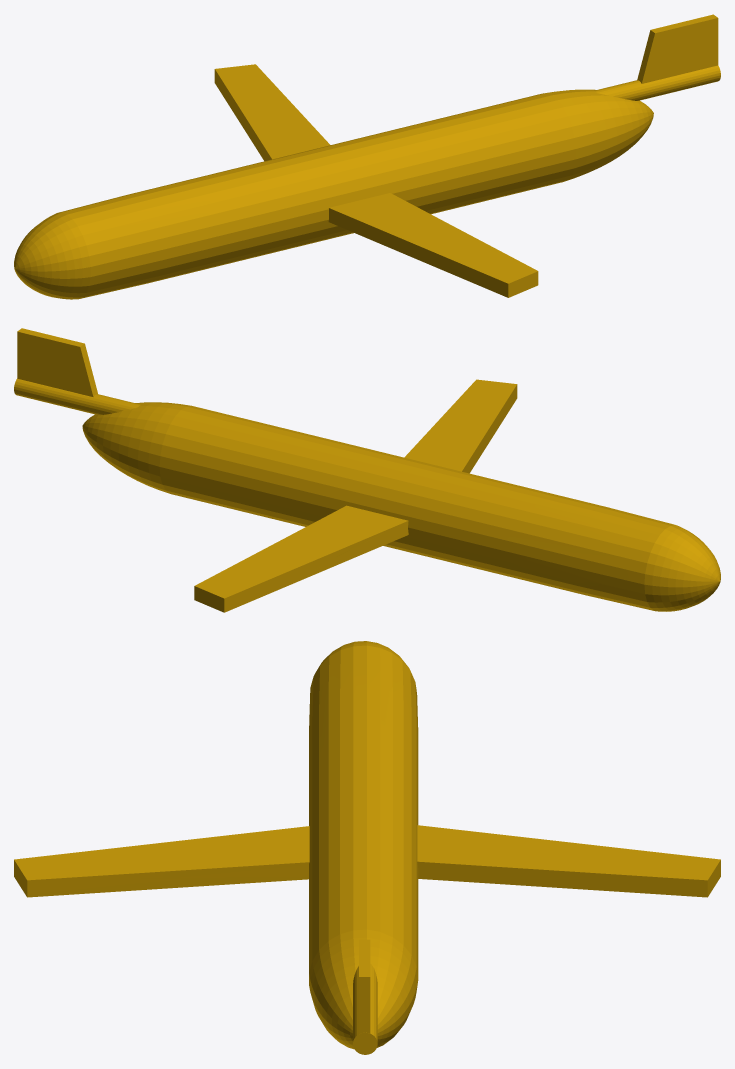
The model's file is slocum-glider-v1.glb.
3 views of the same model, one above another, from view 1: azimuth 30°, elevation 25°; view 2: azimuth 150°, elevation 25°; view 3: azimuth 270°, elevation 25° (orthographic). The views are drawn at different scales.
Visible parts, largest first — view 1: G3 Slocum Glider; view 2: G3 Slocum Glider; view 3: G3 Slocum Glider.
Part boxes in pixels (<box>): G3 Slocum Glider: <box>14,14,720,299</box>; G3 Slocum Glider: <box>14,328,720,612</box>; G3 Slocum Glider: <box>14,641,720,1054</box>.
Bounding box in the file's own units: 6.06 × 1.01 × 4.39.
1 material, 1 textured.
